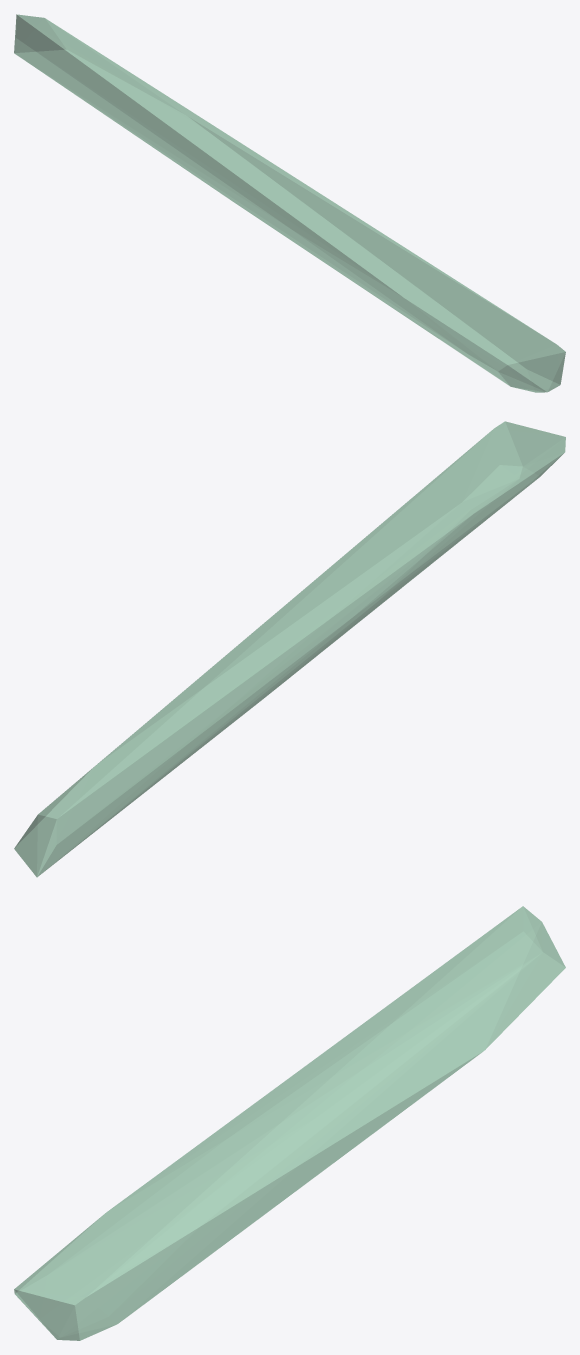
3 renders of one model, top to bottom at view 1: azimuth 30°, elevation 25°; view 2: azimuth 150°, elevation 25°; view 3: azimuth 330°, elevation 25°, orthographic. The views are drawn at different scales.
Visible parts, largest first — view 1: Shape_IndexedFaceSet.018_Shape_IndexedFaceSet.18079; view 2: Shape_IndexedFaceSet.018_Shape_IndexedFaceSet.18079; view 3: Shape_IndexedFaceSet.018_Shape_IndexedFaceSet.18079.
Boxes of the visible parts, box(x1,y1,x2,y2) form: Shape_IndexedFaceSet.018_Shape_IndexedFaceSet.18079: box(14, 14, 565, 392); Shape_IndexedFaceSet.018_Shape_IndexedFaceSet.18079: box(14, 421, 565, 877); Shape_IndexedFaceSet.018_Shape_IndexedFaceSet.18079: box(14, 906, 565, 1340).
Size of the model in its own units: 0.045 by 0.0308 by 0.5685.
